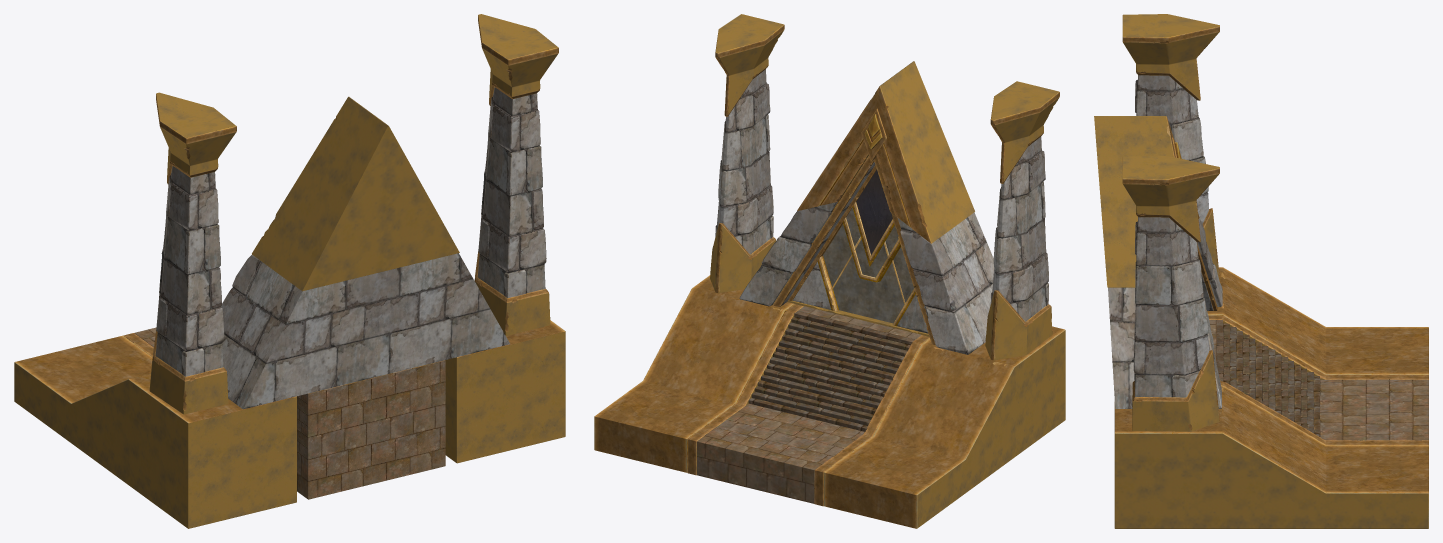
3 renders of one model, left to right at view 1: azimuth 30°, elevation 25°; view 2: azimuth 150°, elevation 25°; view 3: azimuth 270°, elevation 25°, orthographic. The views are drawn at different scales.
Visible parts, largest first — view 1: SM_Dragons_Lair_Entrance_01_LOD0; view 2: SM_Dragons_Lair_Entrance_01_LOD0; view 3: SM_Dragons_Lair_Entrance_01_LOD0.
Part boxes in pixels (x1=…): SM_Dragons_Lair_Entrance_01_LOD0: x1=14, y1=14, x2=565, y2=528; SM_Dragons_Lair_Entrance_01_LOD0: x1=594, y1=14, x2=1065, y2=528; SM_Dragons_Lair_Entrance_01_LOD0: x1=1094, y1=14, x2=1428, y2=528.
Size of the model in its own units: 23.88 by 23.39 by 20.31.
Materials: 12 (12 with a texture image).
